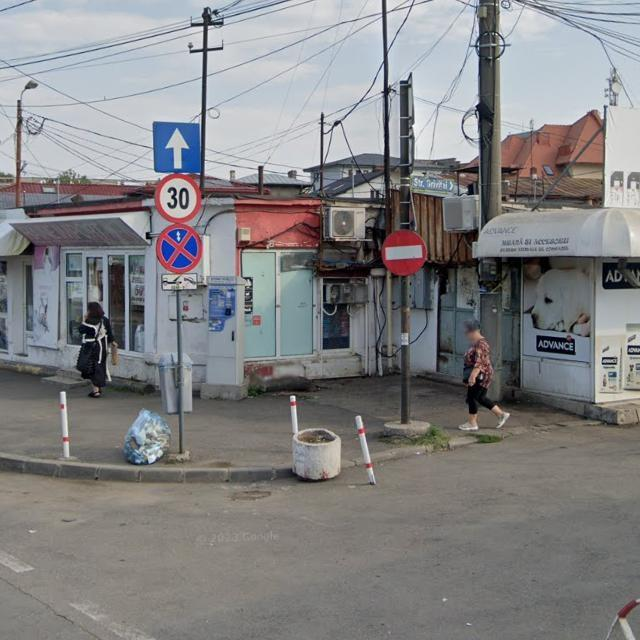forb_speed_over_30: (155, 172, 201, 225)
forb_waiting: (156, 224, 205, 276)
